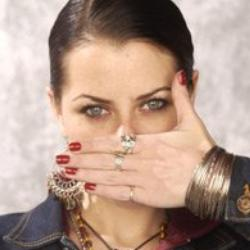face: (37, 1, 207, 226)
